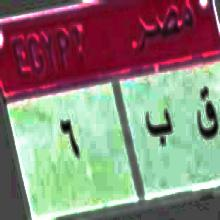6: (58, 107, 82, 171)
baa: (146, 95, 174, 157)
qaaf: (195, 77, 219, 153)
